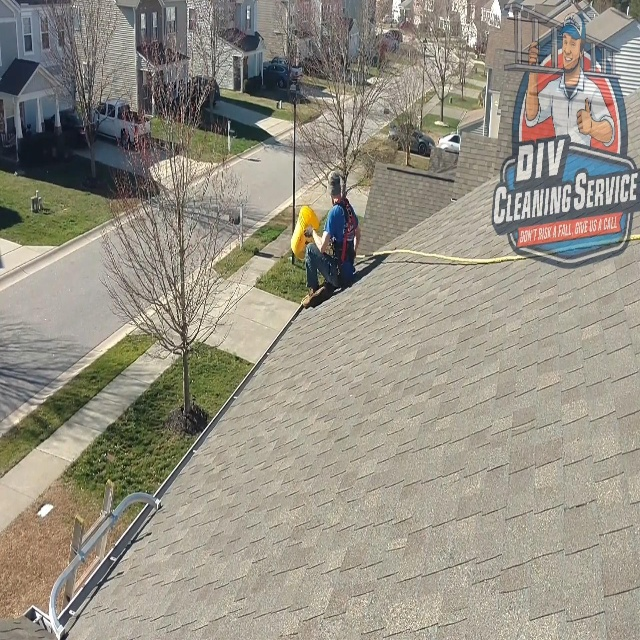Arnes_seguridad: (327, 192, 358, 288)
